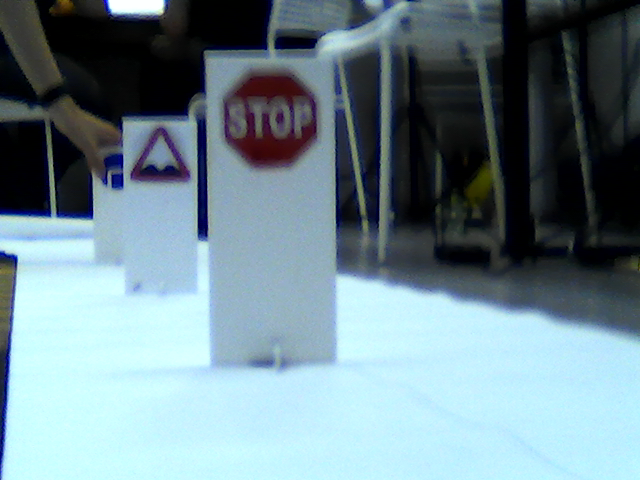Stop: (216, 68, 323, 173)
